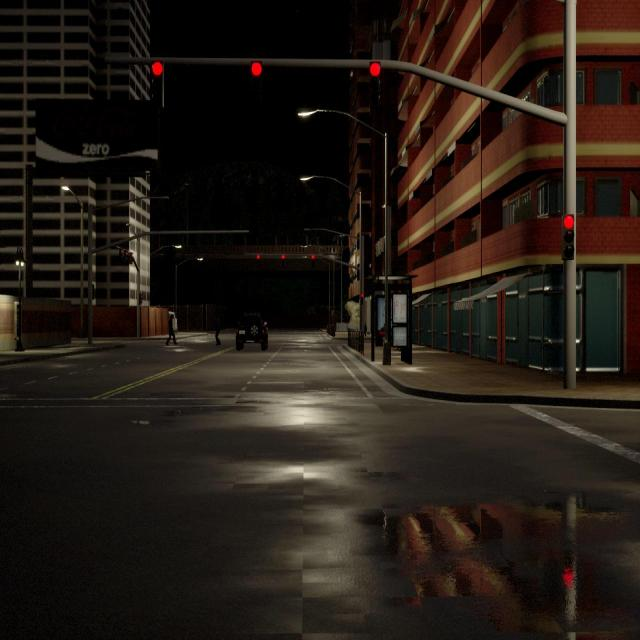Pedestrian: (166, 313, 176, 345), (213, 314, 222, 345)
Vehicle: (235, 314, 268, 350), (168, 310, 177, 332)
traffic_light: (560, 214, 575, 262), (153, 60, 162, 98), (252, 60, 262, 76), (370, 62, 380, 77), (119, 249, 123, 267), (124, 250, 128, 264), (139, 293, 143, 305), (360, 292, 364, 304), (129, 252, 133, 264), (256, 254, 260, 260), (282, 254, 285, 260), (312, 254, 315, 260)
